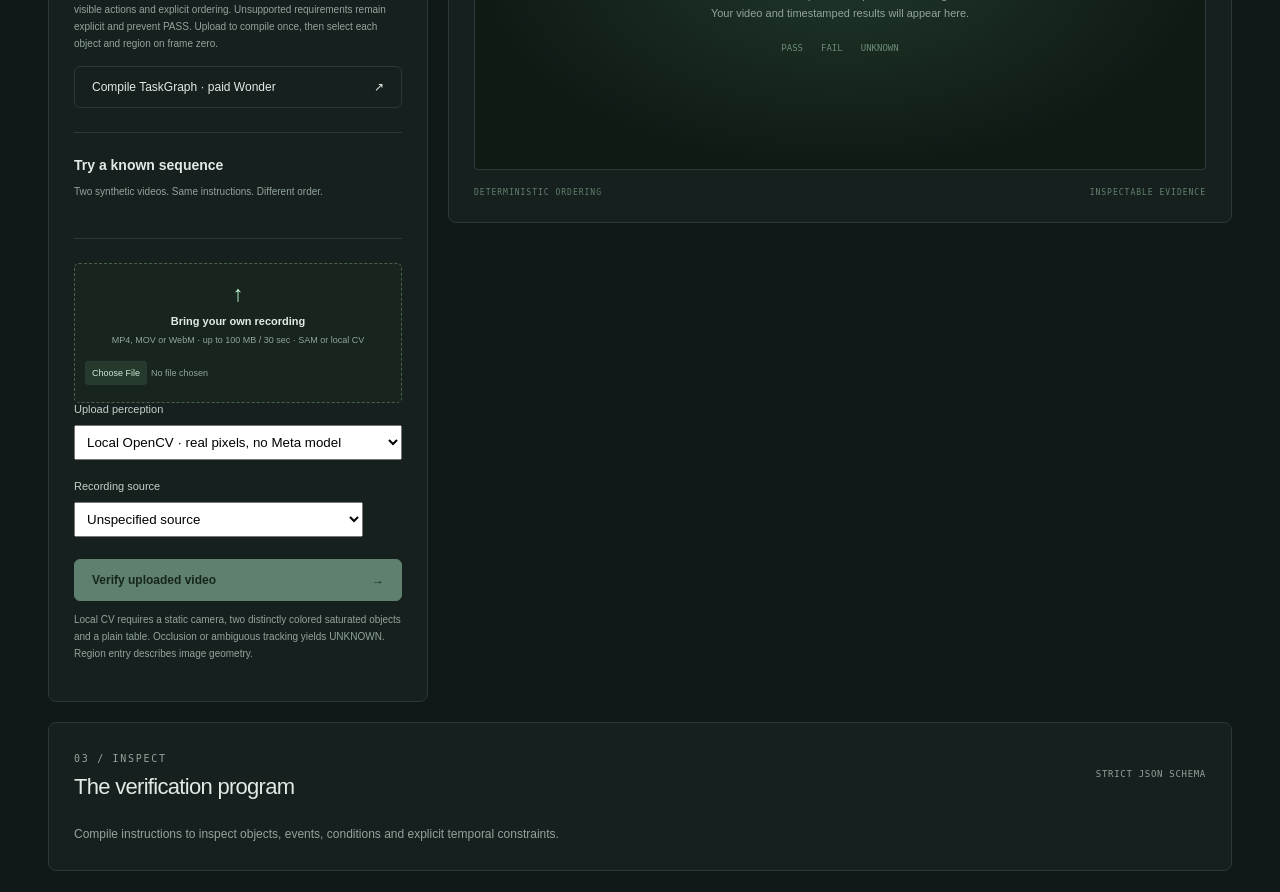
Test case: explains the active live pipeline and keeps SAM selectable
(page scrolled)
expect the button "Compile TaskGraph · paid Wonder ↗" is shown: met, box x1=74 y1=66 x2=402 y2=108
Select "Meta SAM · configured / paid" in the dropdown labelled "Upload perception" at (238, 443), box x1=74 y1=425 x2=402 y2=460
(page scrolled)
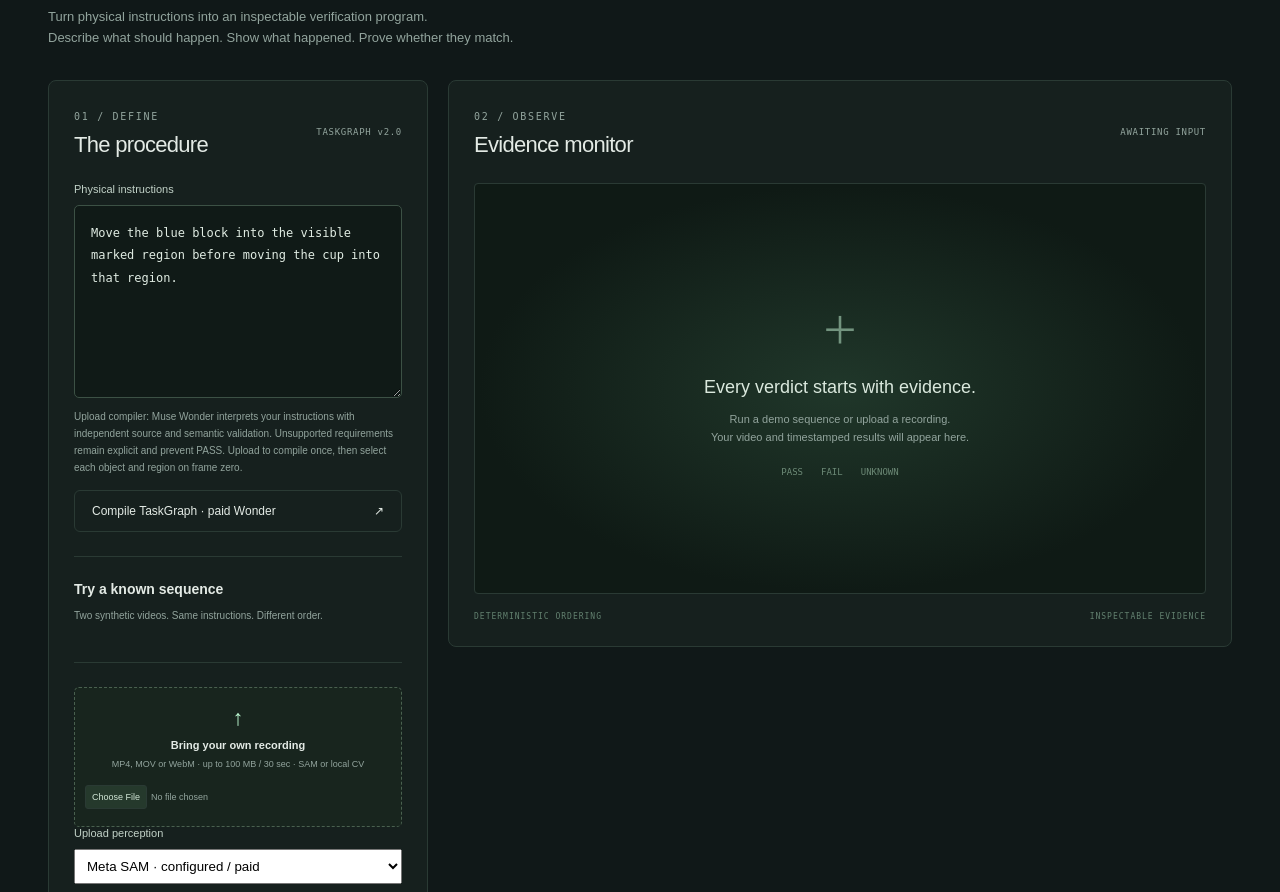
expect the text "Upload to compile once" is shown: met, box x1=74 y1=428 x2=393 y2=473
expect the text "Muse Wonder interprets your instructions" is shown: met, box x1=74 y1=411 x2=354 y2=439
